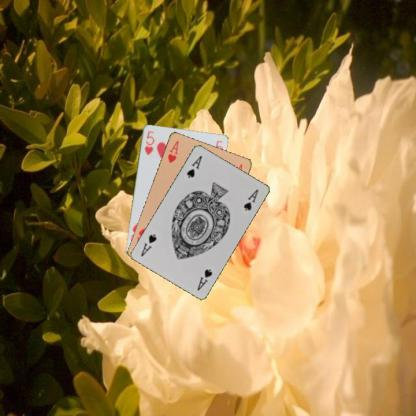5h: (142, 128, 156, 156)
Ah: (165, 138, 180, 164)
As: (184, 153, 203, 179), (194, 266, 213, 291)
